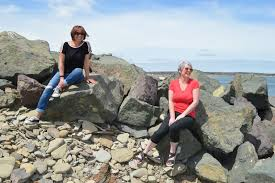Good: (29, 26, 201, 167)
